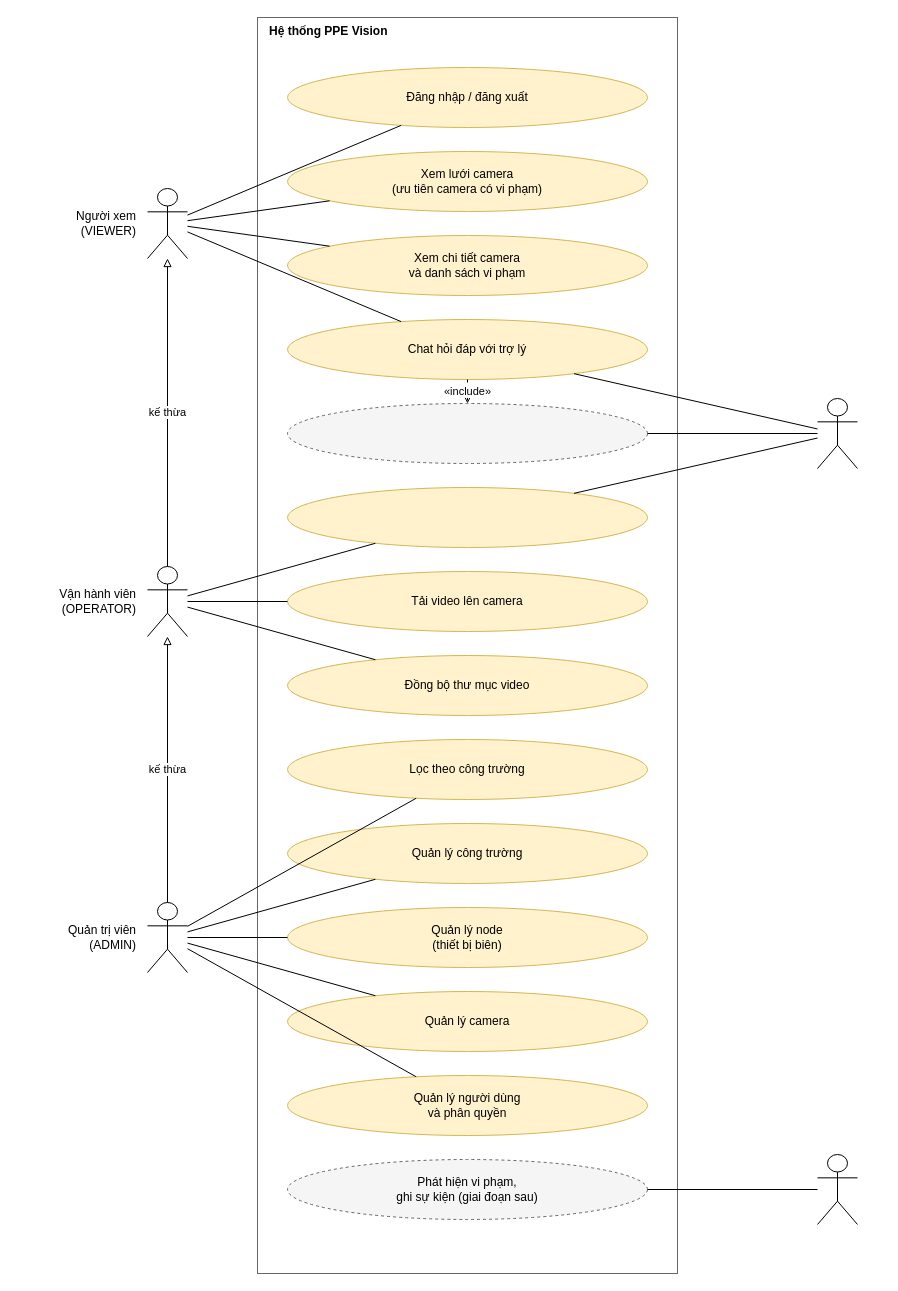
Image size: 898x1291. Some labels were removed from this diagram. The shapes that lost their labels are listed below. From the top down, each one's centre as x and y in pixels, then its label:
At pixel 467 433: "Tra cứu quy chuẩn an toàn (giai đoạn sau)".
At pixel 837 433: "Trợ lý AI (agent + LLM)".
At pixel 467 517: "Xuất báo cáo an toàn".
At pixel 837 1189: "Bộ phát hiện (mô hình YOLO)".
